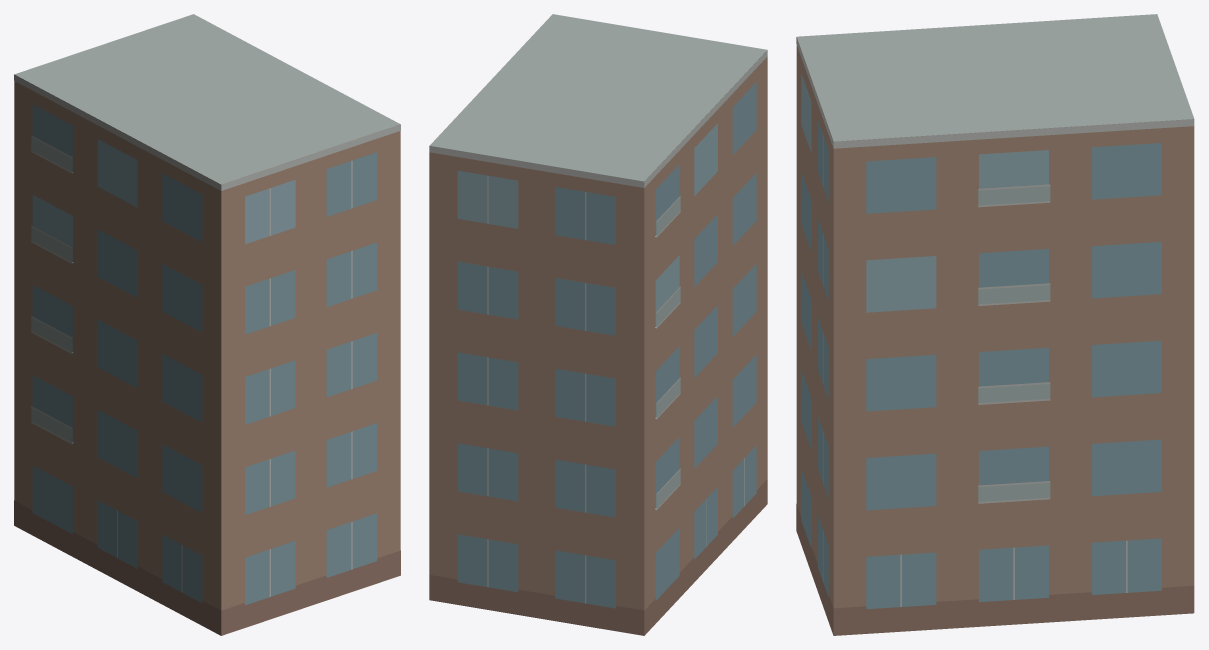
File: survey-upis-32715437.glb
3 renders of one model, left to right at view 1: azimuth 30°, elevation 25°; view 2: azimuth 150°, elevation 25°; view 3: azimuth 270°, elevation 25°, orthographic. The views are drawn at different scales.
Visible parts, largest first — view 1: survey-upis-32715437.tmp; view 2: survey-upis-32715437.tmp; view 3: survey-upis-32715437.tmp.
Part boxes in pixels (<box>): survey-upis-32715437.tmp: <box>14,14,400,635</box>; survey-upis-32715437.tmp: <box>429,14,767,635</box>; survey-upis-32715437.tmp: <box>796,14,1194,635</box>.
Size of the model in its own units: 9.42 by 17 by 12.41.
